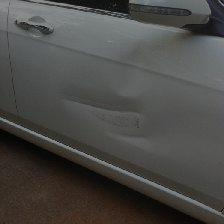door_dent: (25, 82, 157, 151)
